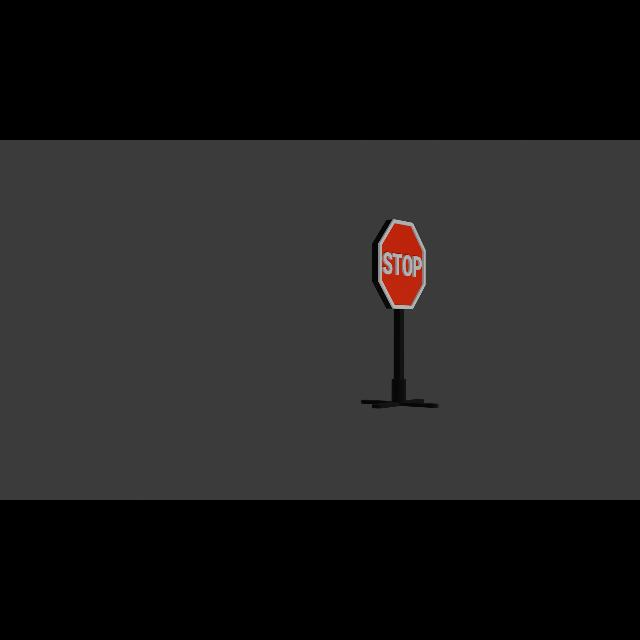sign_stop: (373, 220, 427, 311)
